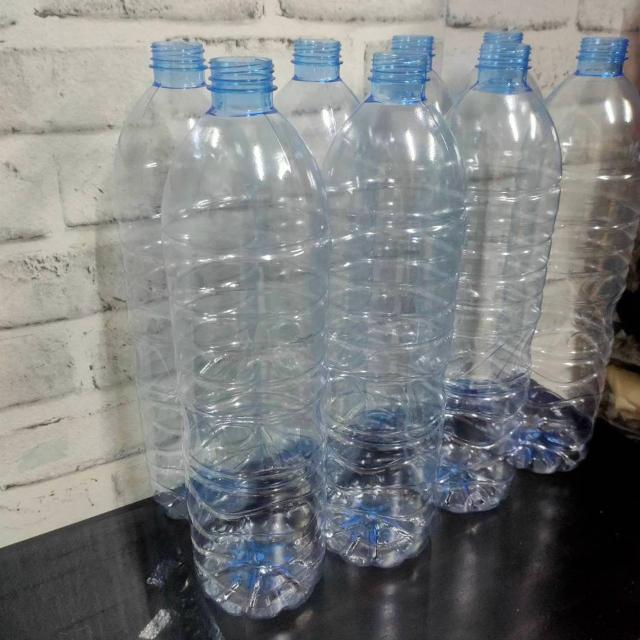PET Bottle: (163, 59, 337, 628), (320, 49, 458, 617), (87, 0, 207, 542), (447, 48, 565, 561), (541, 24, 640, 539)
